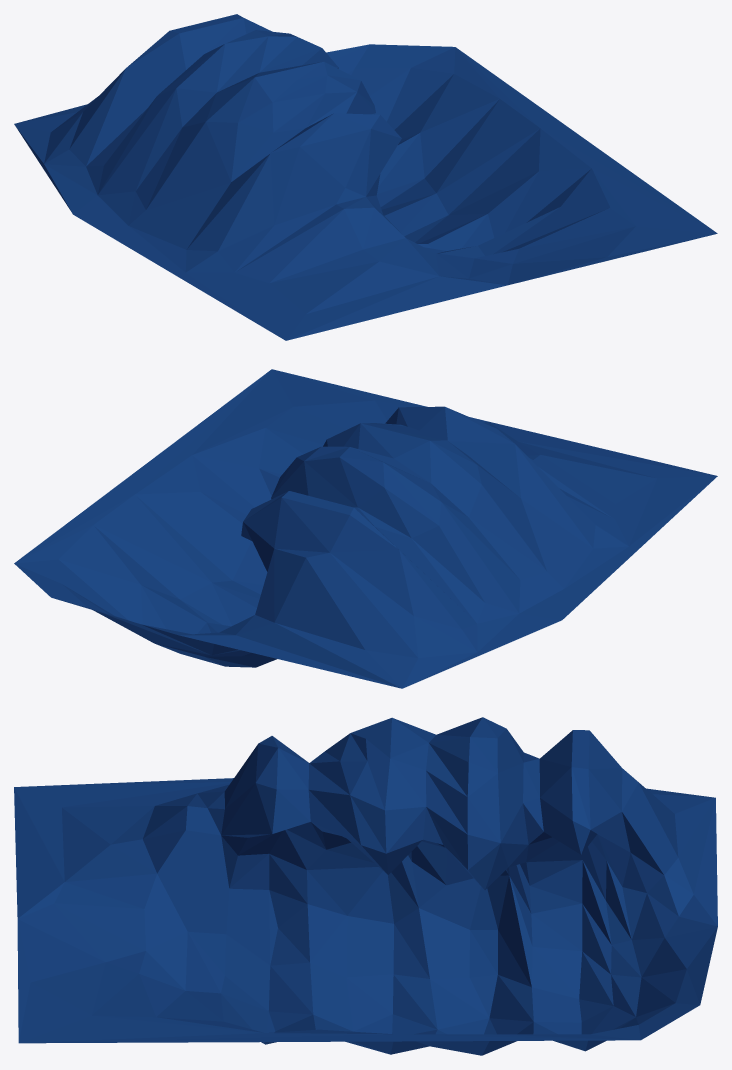
Rendered from Wave1.fbx.
3 views of the same model, one above another, from view 1: azimuth 30°, elevation 25°; view 2: azimuth 150°, elevation 25°; view 3: azimuth 270°, elevation 25° (orthographic). The views are drawn at different scales.
Parts seen in each view (by area): view 1: Wave; view 2: Wave; view 3: Wave.
Part boxes in pixels (x1,y1,x2,y2): Wave: (14, 14, 717, 340); Wave: (14, 369, 717, 688); Wave: (14, 717, 717, 1055).
Bounding box in the file's own units: 600 × 253 × 651.
